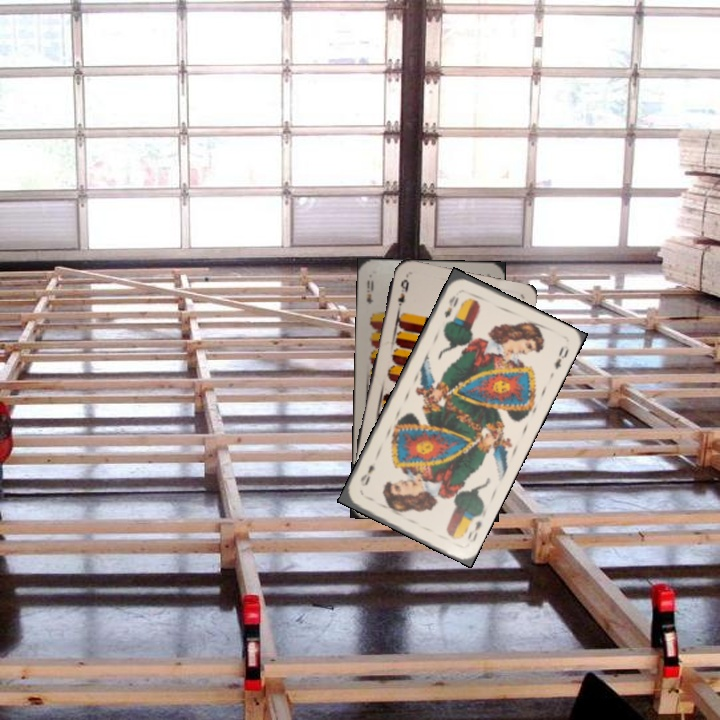E9: (394, 275, 412, 313), (362, 276, 376, 306)
EO: (440, 291, 461, 320), (463, 517, 484, 545)
